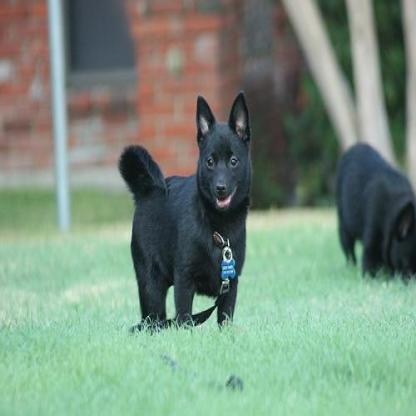schipperke: (115, 85, 253, 356), (327, 140, 414, 286)
